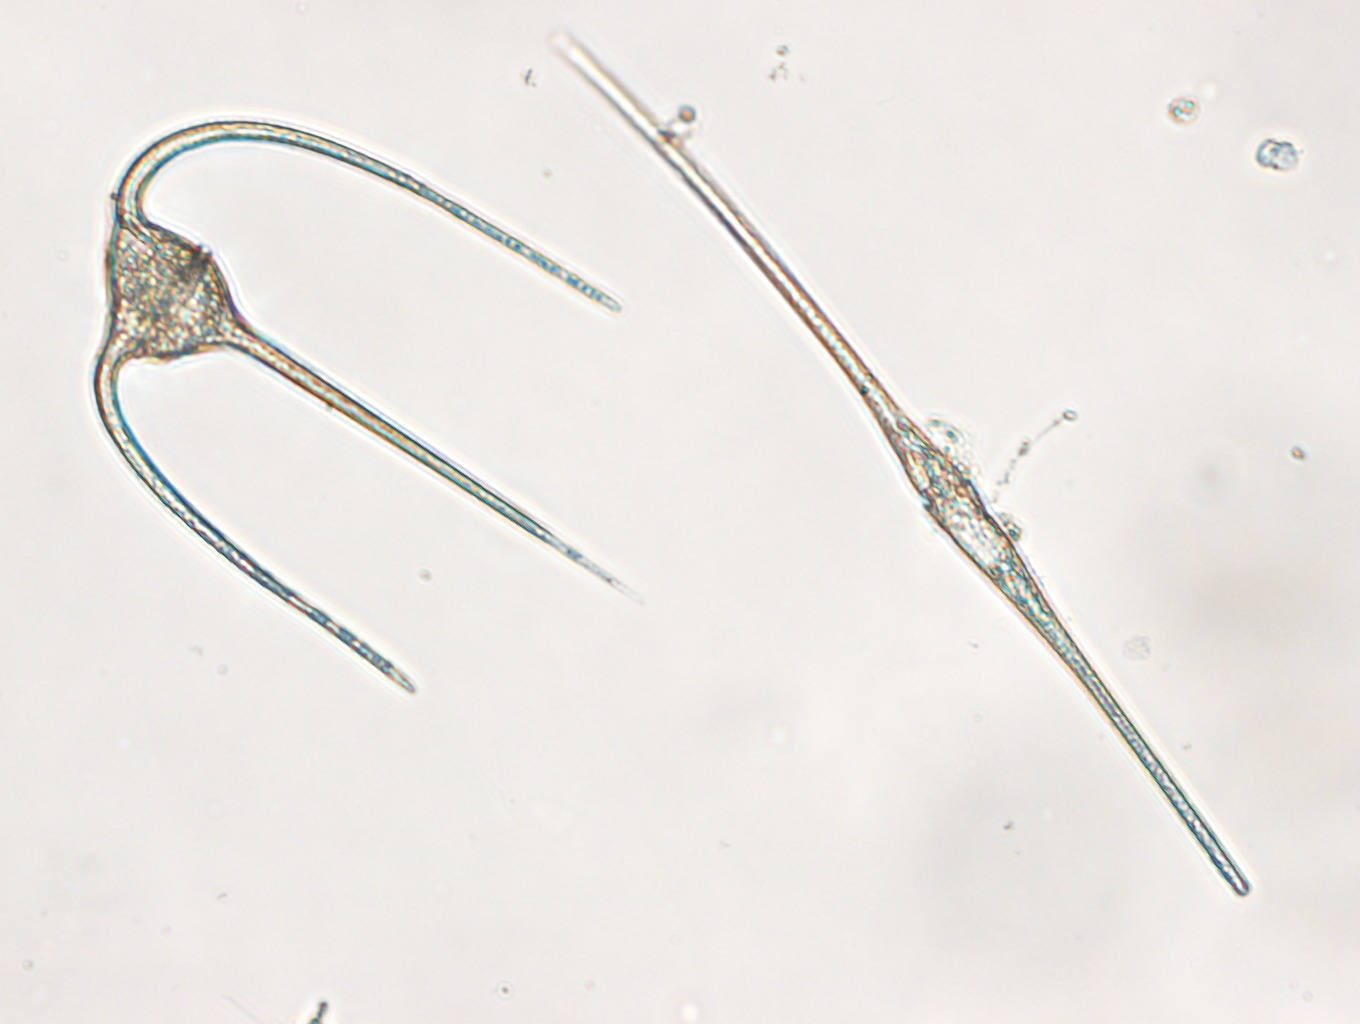ceratium fusus: (552, 27, 1251, 900)
ceratium trichoceros: (90, 116, 649, 699)
